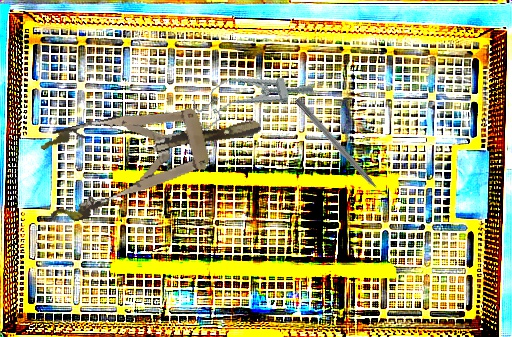Hook Surgical: (293, 97, 389, 203)
Speculum: (31, 82, 272, 227), (188, 60, 317, 132)
